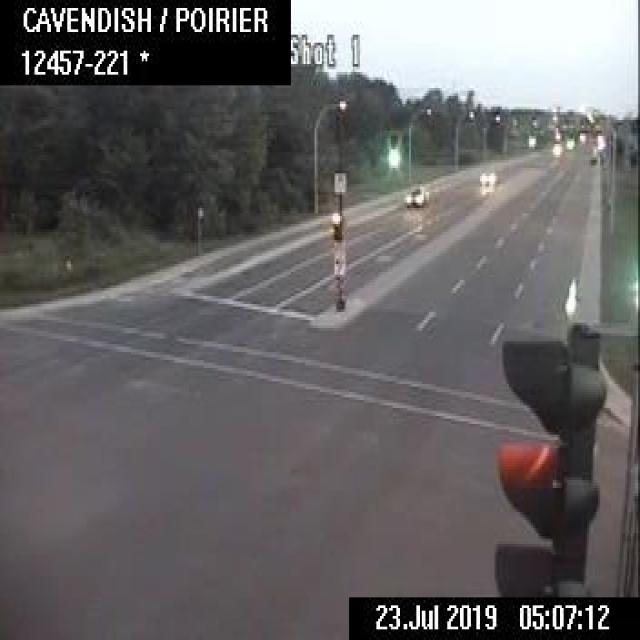vehicle: (405, 186, 428, 206), (477, 167, 497, 186)
